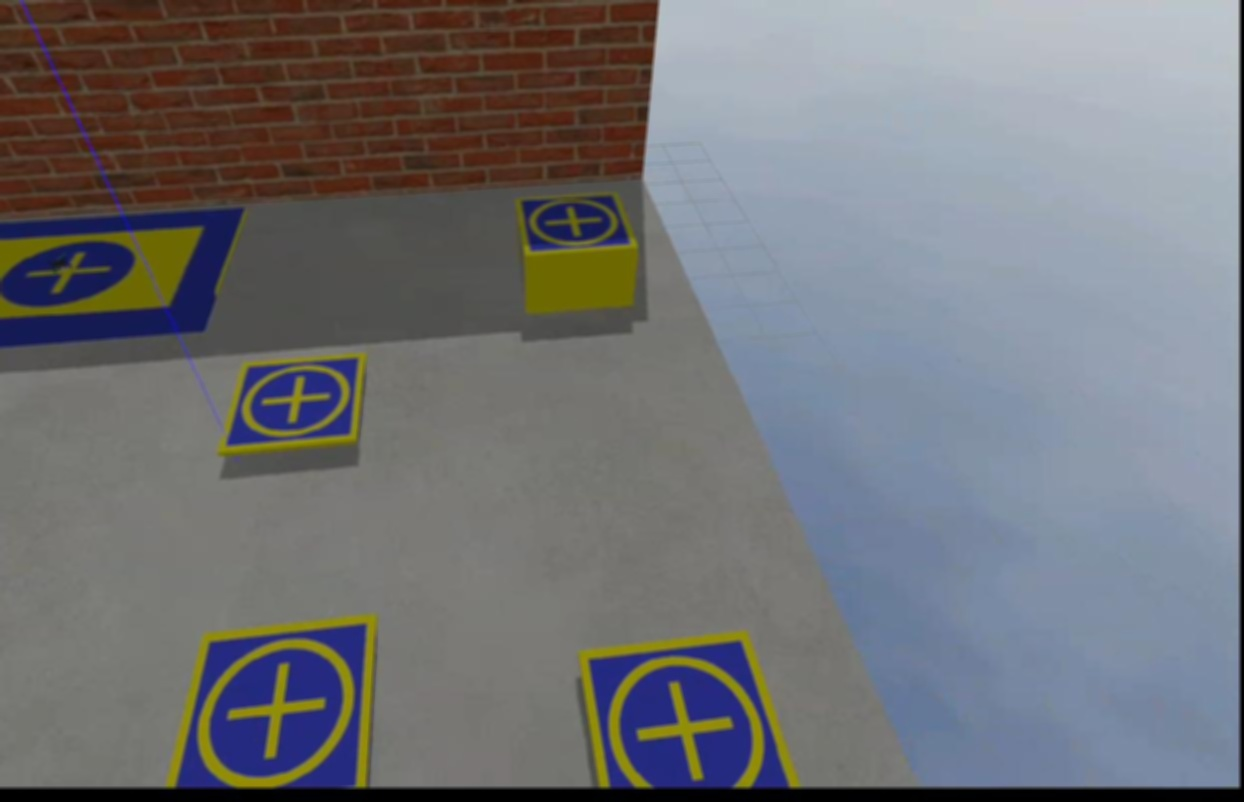large_base: (0, 209, 247, 338)
small_base: (169, 614, 382, 788), (578, 634, 803, 791), (217, 360, 367, 455), (514, 191, 641, 258)
